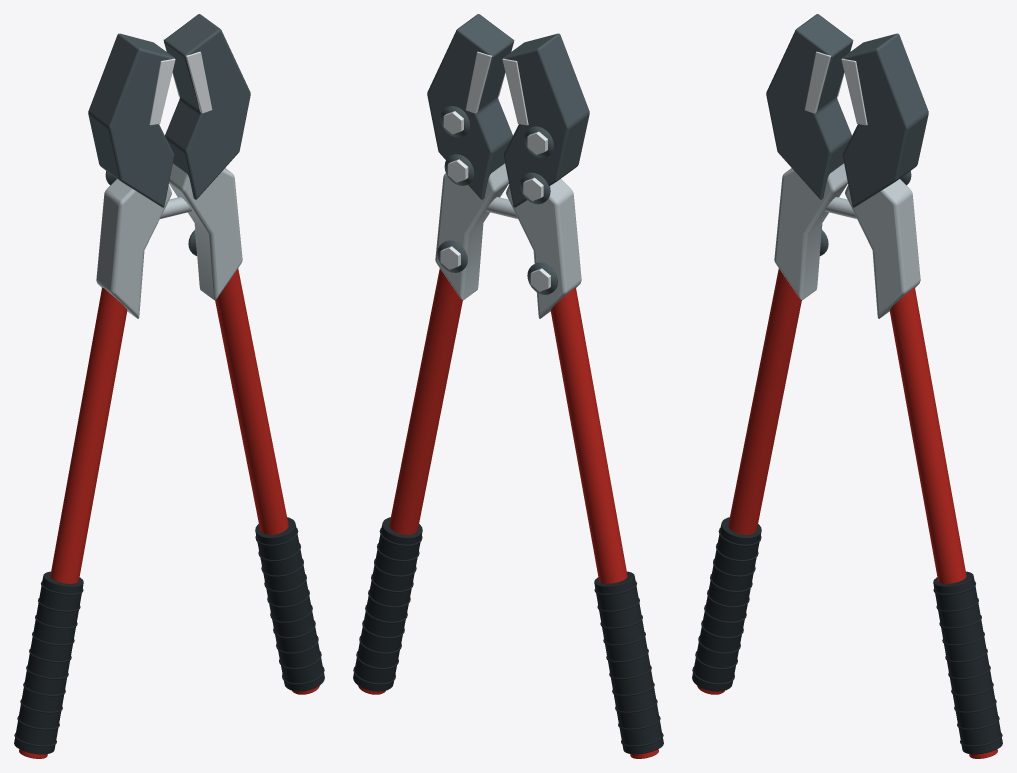
Rendered from bolt_cutter.glb.
3 renders of one model, left to right at view 1: azimuth 30°, elevation 25°; view 2: azimuth 150°, elevation 25°; view 3: azimuth 330°, elevation 25°, orthographic.
Parts seen in each view (by area): view 1: bolt_cutter_render_mesh; view 2: bolt_cutter_render_mesh; view 3: bolt_cutter_render_mesh.
Boxes of the visible parts, x1,y1,x2,y2 form: bolt_cutter_render_mesh: (14,14,324,758); bolt_cutter_render_mesh: (353,14,663,758); bolt_cutter_render_mesh: (692,14,1002,758).
Size of the model in its own units: 0.2912 by 0.6305 by 0.0428.
